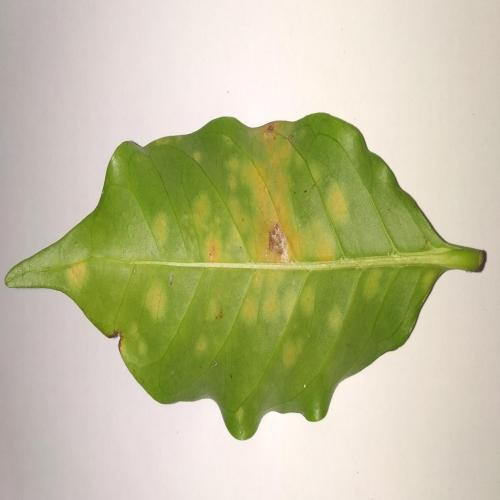phoma: (229, 121, 337, 263)
